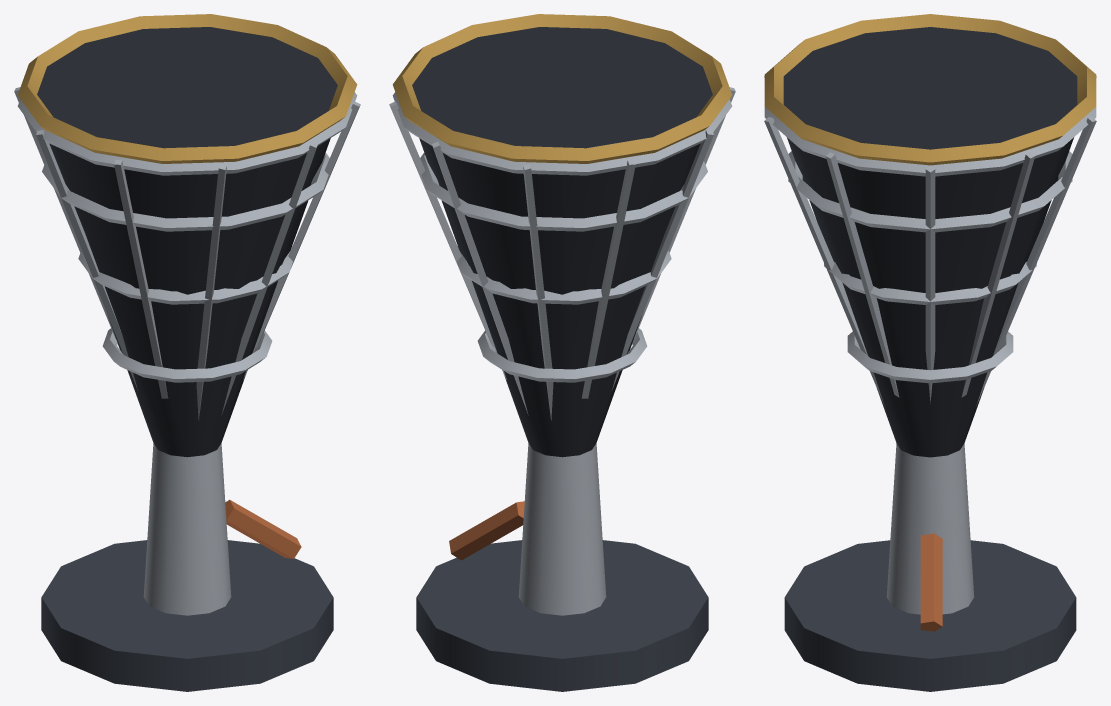
File: nozzle_exhaust_bell_with_cooling_ribs.glb
3 renders of one model, left to right at view 1: azimuth 30°, elevation 25°; view 2: azimuth 150°, elevation 25°; view 3: azimuth 270°, elevation 25°, orthographic.
Visible parts, largest first — view 1: nozzle_exhaust_bell_with_cooling_ribs; view 2: nozzle_exhaust_bell_with_cooling_ribs; view 3: nozzle_exhaust_bell_with_cooling_ribs.
Part boxes in pixels (bbox=[...]): nozzle_exhaust_bell_with_cooling_ribs: bbox=[14, 14, 360, 691]; nozzle_exhaust_bell_with_cooling_ribs: bbox=[389, 14, 735, 691]; nozzle_exhaust_bell_with_cooling_ribs: bbox=[764, 14, 1096, 691].
Bounding box in the file's own units: 1.44 × 2.49 × 1.37.
